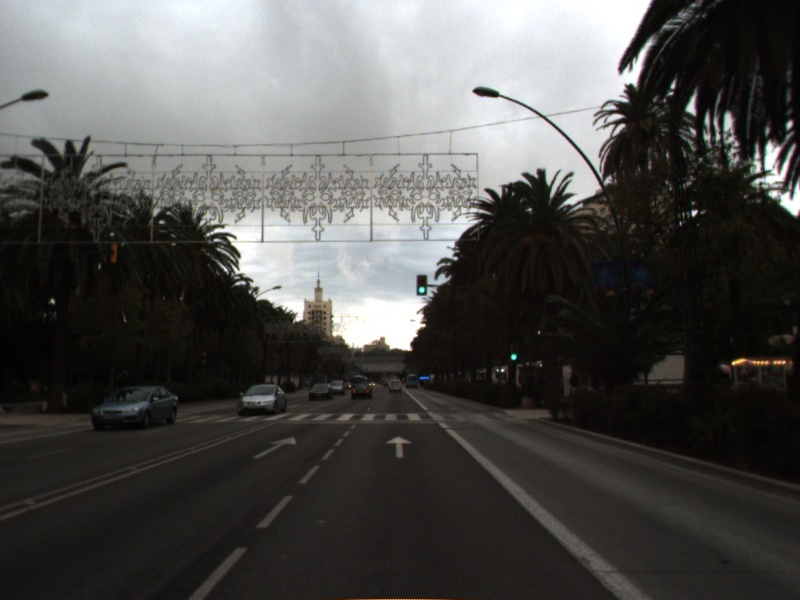STRAIGHT: (250, 434, 298, 460), (384, 434, 415, 460)
